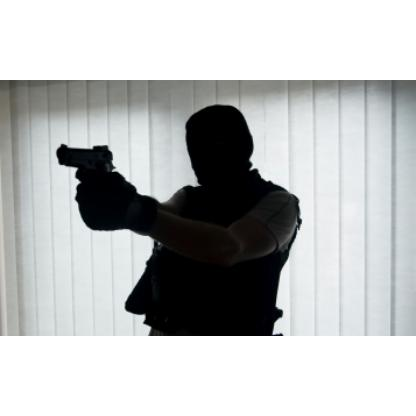gun: (54, 140, 120, 220)
